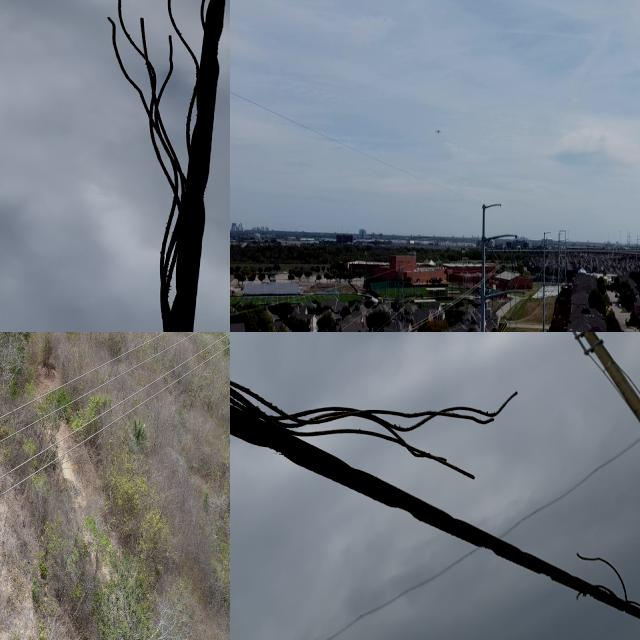杆塔: (381, 249, 419, 332)
正常绝缘子: (497, 242, 514, 268), (496, 298, 511, 325), (505, 300, 520, 326), (489, 241, 503, 268)
电缆破损: (230, 366, 640, 625), (65, 0, 230, 258)
